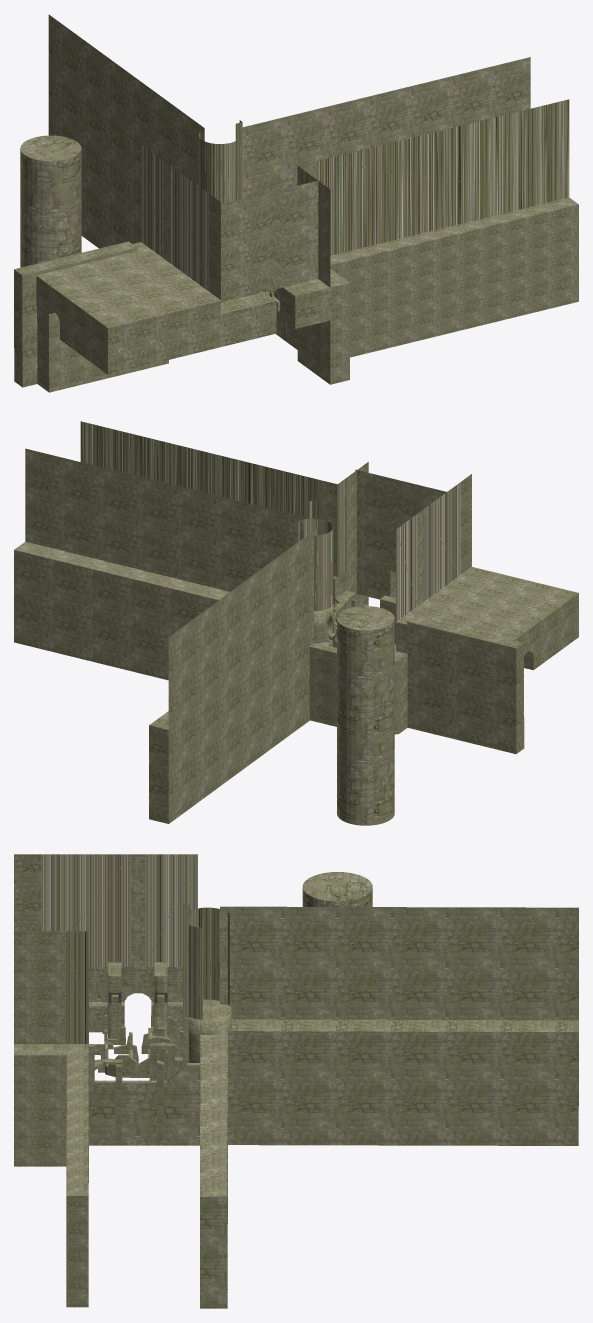
File: SM_Chateaux_06_01.fbx
3 renders of one model, top to bottom at view 1: azimuth 30°, elevation 25°; view 2: azimuth 150°, elevation 25°; view 3: azimuth 270°, elevation 25°, orthographic. The views are drawn at different scales.
Parts seen in each view (by area): view 1: SM_Chateaux_06_01.001, SM_Chateaux_06_01; view 2: SM_Chateaux_06_01, SM_Chateaux_06_01.001; view 3: SM_Chateaux_06_01, SM_Chateaux_06_01.001.
Part boxes in pixels (box(x1,y1,x2,y2)): SM_Chateaux_06_01.001: box(48, 14, 569, 302); SM_Chateaux_06_01: box(14, 113, 578, 392); SM_Chateaux_06_01: box(14, 541, 578, 825); SM_Chateaux_06_01.001: box(25, 421, 471, 729); SM_Chateaux_06_01: box(14, 872, 578, 1308); SM_Chateaux_06_01.001: box(14, 854, 578, 1113).
Size of the model in its own units: 19147 by 8891 by 15779.
